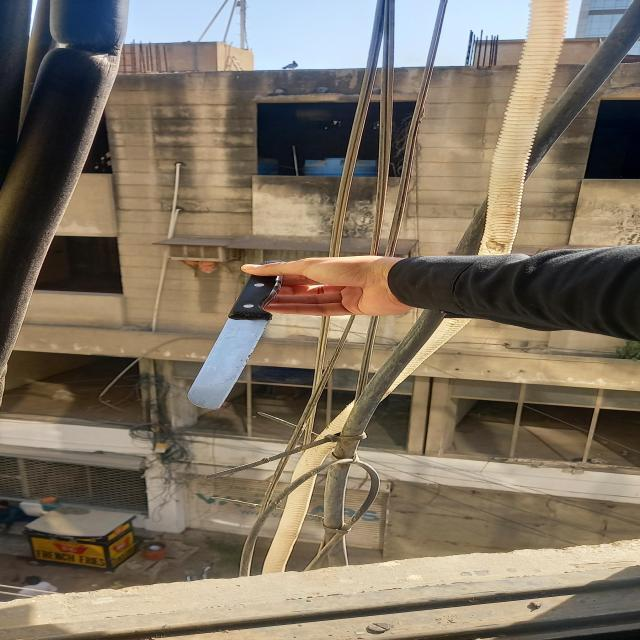faca: (188, 260, 286, 410)
